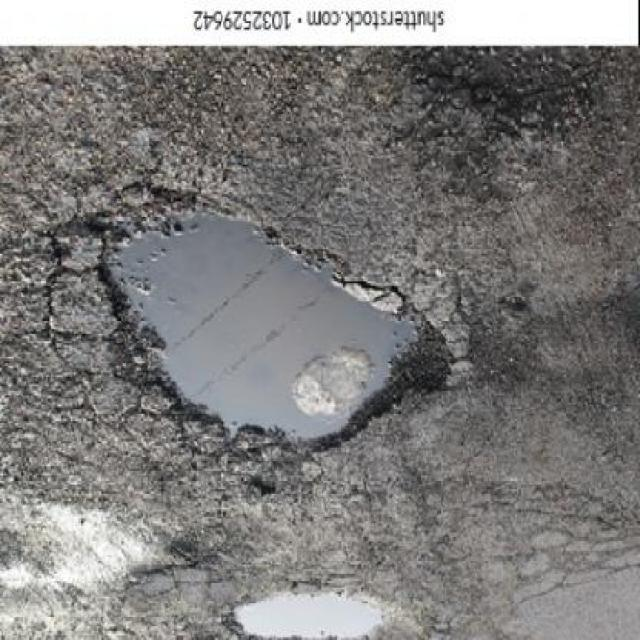Pothole: (94, 170, 476, 482), (204, 583, 410, 640)
